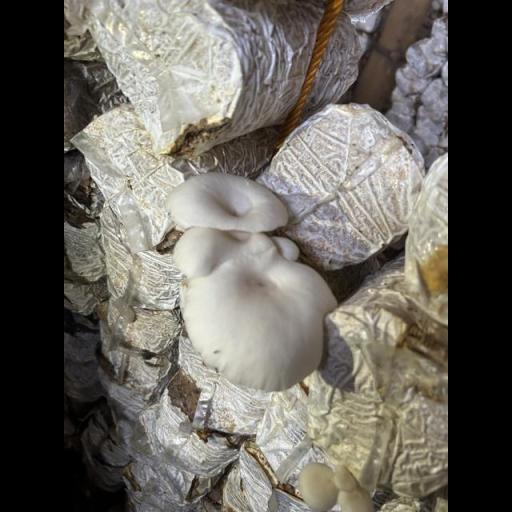White Oyster Mushroom: (167, 174, 338, 392)
